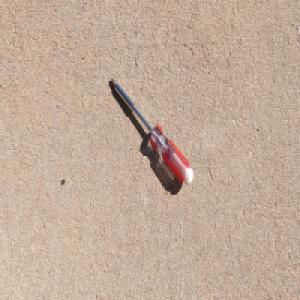Screwdriver: (109, 76, 194, 187)
